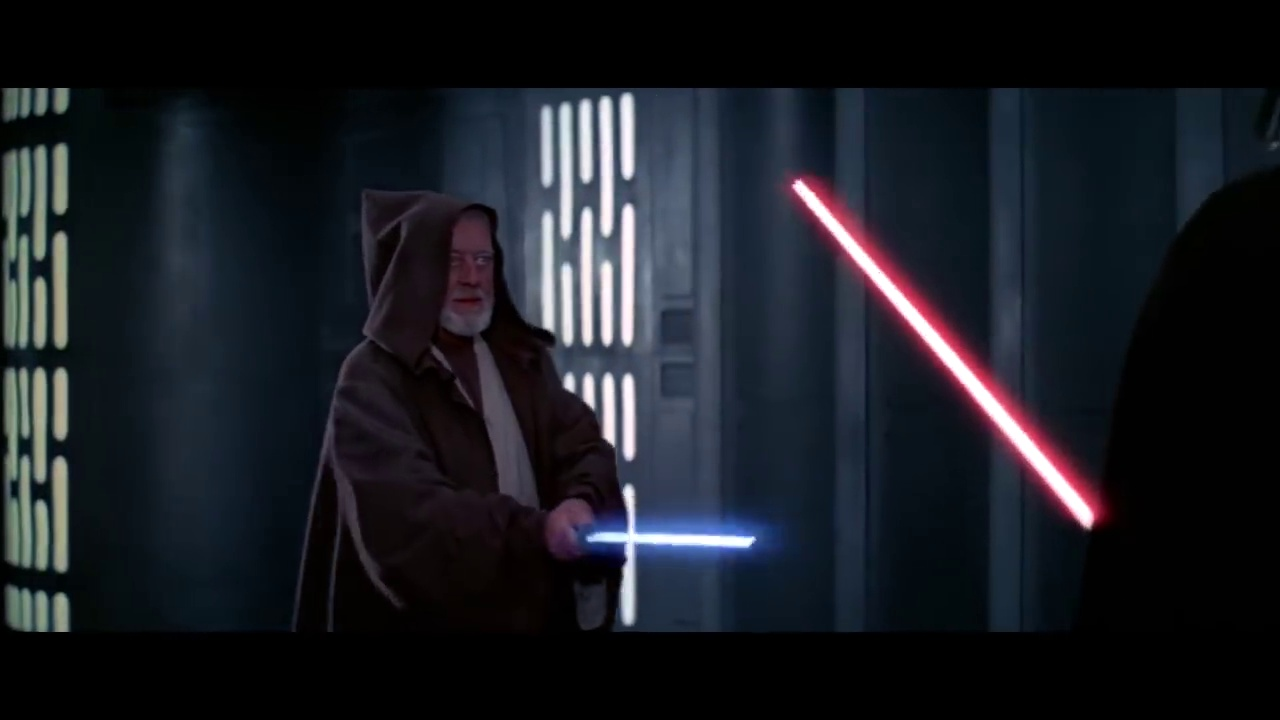lightsaber: (779, 172, 1113, 550), (562, 518, 768, 563)
